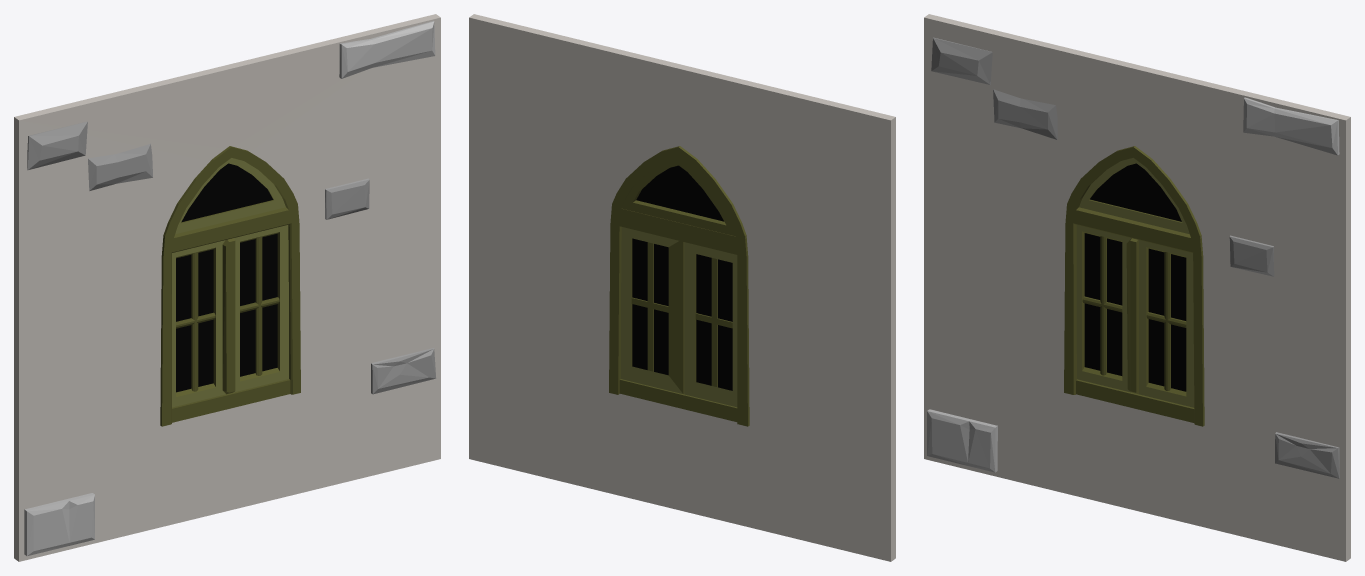
Rendered from _WINDOW_02_1.fbx.
The picture shows the model from 3 angles, left to right: view 1: azimuth 30°, elevation 25°; view 2: azimuth 150°, elevation 25°; view 3: azimuth 330°, elevation 25°; orthographic projection.
Parts seen in each view (by area): view 1: WINDOW_02_1; view 2: WINDOW_02_1; view 3: WINDOW_02_1.
Boxes of the visible parts, <box> form: WINDOW_02_1: <box>14,14,440,561</box>; WINDOW_02_1: <box>469,14,895,561</box>; WINDOW_02_1: <box>924,14,1350,561</box>.
Bounding box in the file's own units: 300 × 300 × 12.63.
